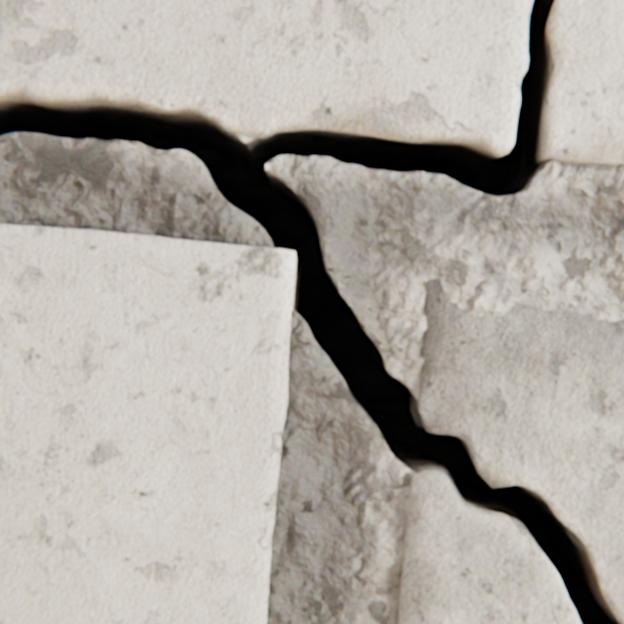brick: (0, 224, 295, 623)
broken_brick: (0, 0, 531, 156), (417, 279, 623, 623), (398, 471, 579, 623), (541, 0, 623, 165)
crack: (0, 0, 621, 623), (455, 307, 464, 325)
